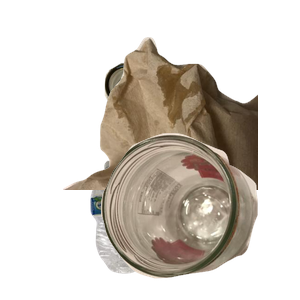glass: (98, 131, 300, 300)
metal: (102, 60, 252, 169)
plastic: (88, 158, 229, 300)
trash: (60, 35, 300, 215)
